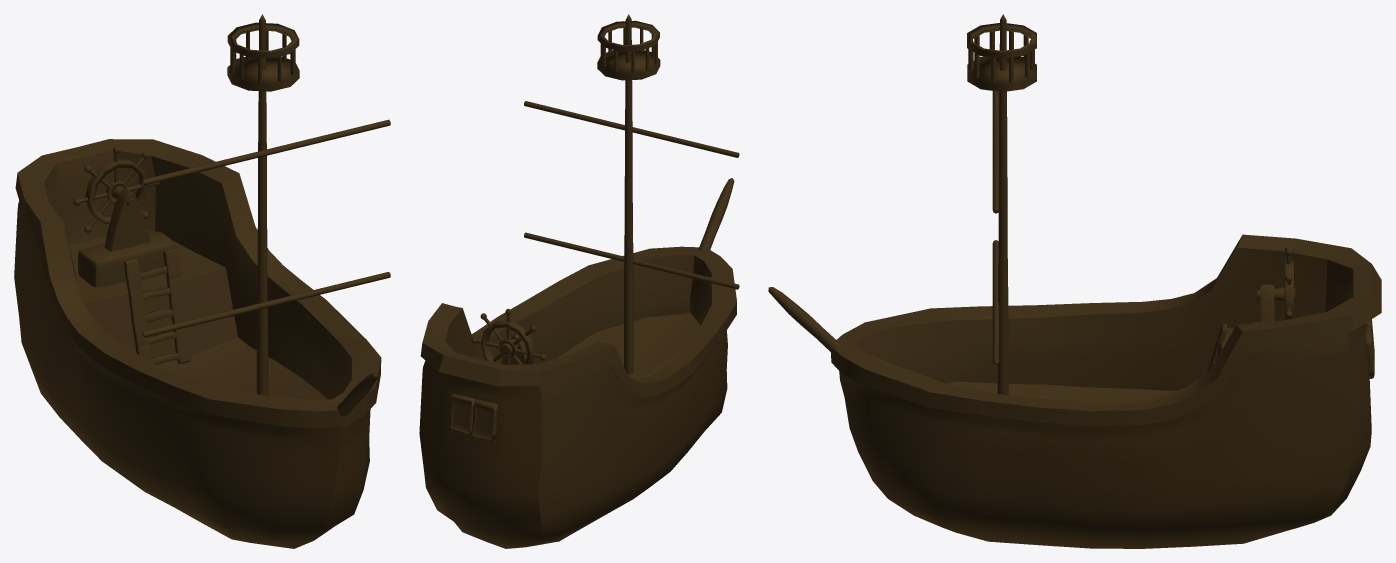
File: ShipTier1 (1).fbx
The picture shows the model from 3 angles, left to right: view 1: azimuth 30°, elevation 25°; view 2: azimuth 150°, elevation 25°; view 3: azimuth 270°, elevation 25°; orthographic projection. The views are drawn at different scales.
Parts seen in each view (by area): view 1: pCylinder111, pCylinder101, pCylinder110, pCube19, pSphere7; view 2: pCylinder111, pCylinder101, pSphere7, polySurface3, polySurface4, pCylinder110; view 3: pCylinder111, pCylinder101, pCylinder110, pSphere7.
Boxes of the visible parts, bbox=[...] form: pCylinder111: bbox=[14, 139, 381, 548]; pCylinder101: bbox=[141, 14, 390, 395]; pCylinder110: bbox=[78, 186, 176, 287]; pCube19: bbox=[124, 248, 191, 365]; pSphere7: bbox=[73, 146, 159, 232]; pCylinder111: bbox=[419, 178, 736, 548]; pCylinder101: bbox=[524, 14, 739, 374]; pSphere7: bbox=[471, 309, 545, 364]; polySurface3: bbox=[472, 399, 497, 441]; polySurface4: bbox=[450, 393, 475, 436]; pCylinder110: bbox=[500, 333, 533, 364]; pCylinder111: bbox=[768, 234, 1381, 548]; pCylinder101: bbox=[967, 14, 1036, 394]; pCylinder110: bbox=[1250, 284, 1295, 323]; pSphere7: bbox=[1284, 246, 1294, 319].
Size of the model in its own units: 2.91 by 5.99 by 6.26.
